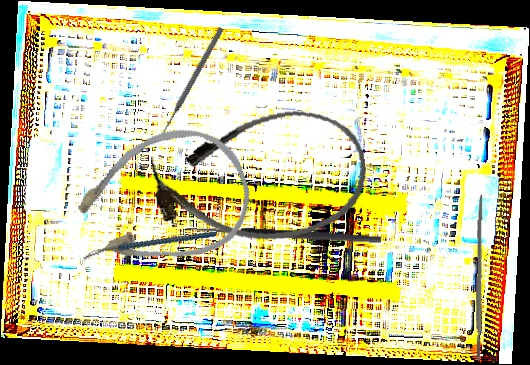Cannula: (53, 112, 264, 291), (147, 102, 373, 254)
Chopper: (84, 208, 217, 284)
Hook Surgical: (184, 223, 382, 254)
Pusher: (158, 26, 225, 138)
Scalpel Handle: (474, 193, 484, 362)
